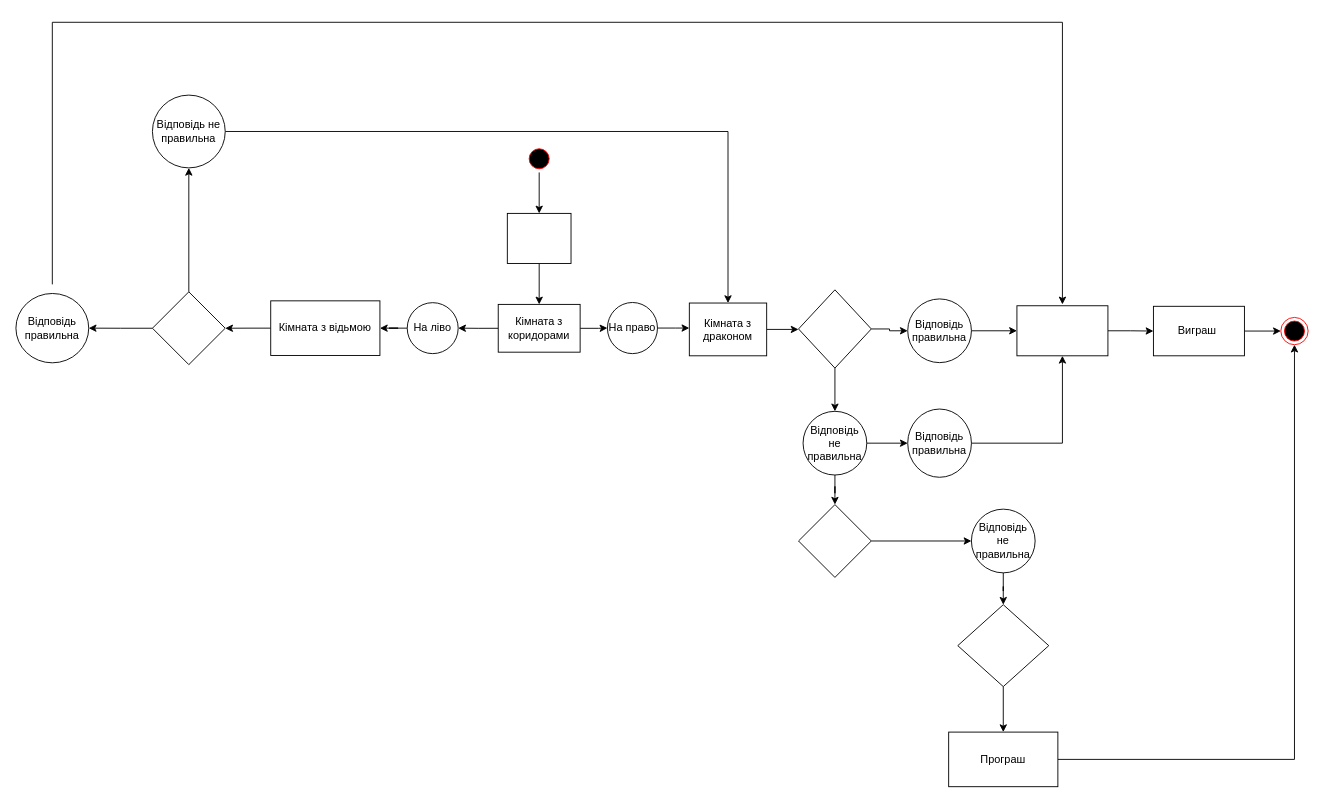
The diagram is 1324 pixels wide and 803 high, and some of its shapes have lost their labels. The centre of each missing label's shape, as x and y in pixels:
Вихід із замку: pixel 1062 330
Відьма загадує загадку: pixel 188 328
Дракон загадує загадку: pixel 834 328
Дракон тебе з'їдає: pixel 1003 645
Замок загадок: pixel 538 237
Ще одна загадка: pixel 834 540
